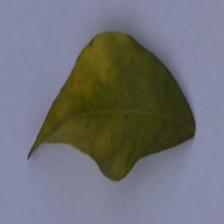greening: (24, 24, 142, 180)
